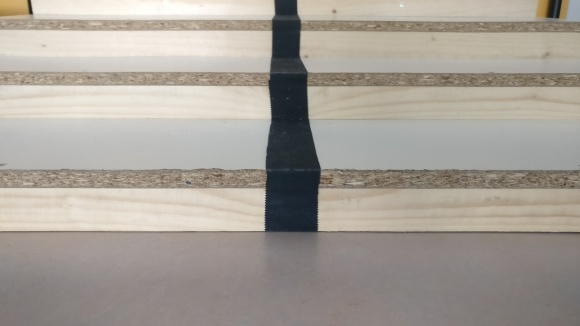stairs: (1, 1, 580, 237)
